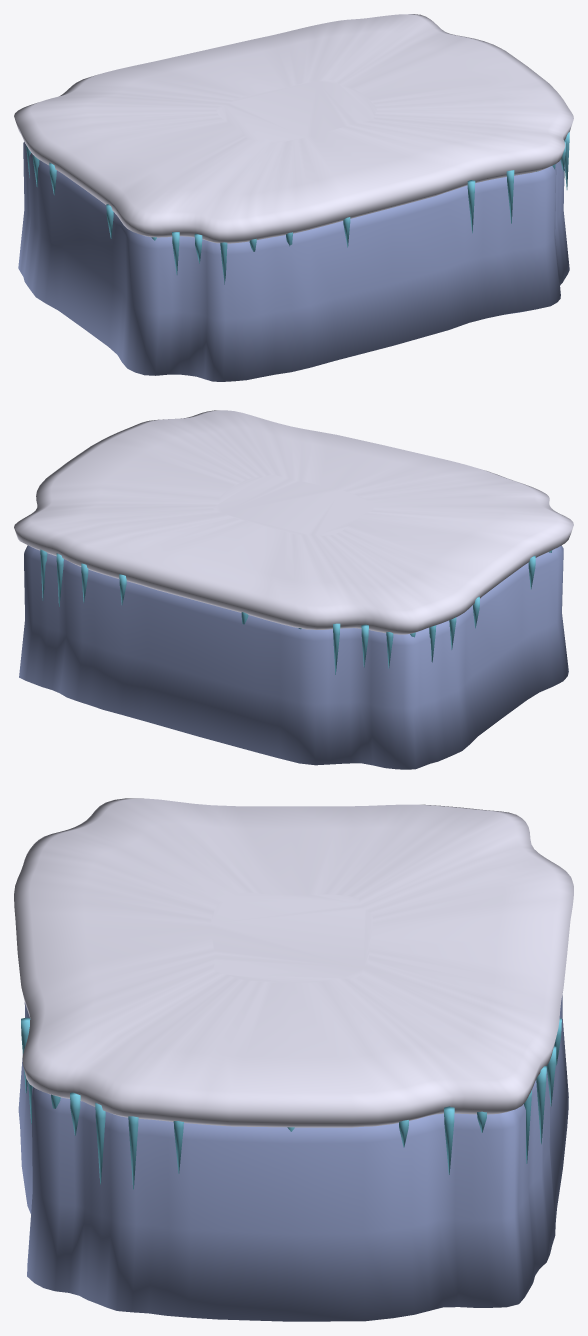
Rendered from snow-shelf.glb.
3 views of the same model, one above another, from view 1: azimuth 30°, elevation 25°; view 2: azimuth 150°, elevation 25°; view 3: azimuth 270°, elevation 25° (orthographic). The views are drawn at different scales.
Visible parts, largest first — view 1: Soft snow slab, Frozen sugar shelf; view 2: Soft snow slab, Frozen sugar shelf; view 3: Soft snow slab, Frozen sugar shelf.
Part boxes in pixels (x1=…): Soft snow slab: x1=14, y1=14, x2=573, y2=243; Frozen sugar shelf: x1=18, y1=142, x2=569, y2=381; Soft snow slab: x1=14, y1=410, x2=573, y2=634; Frozen sugar shelf: x1=19, y1=545, x2=568, y2=769; Soft snow slab: x1=14, y1=798, x2=573, y2=1127; Frozen sugar shelf: x1=18, y1=995, x2=568, y2=1321.
Bounding box in the file's own units: 13.2 × 4.71 × 9.99.
